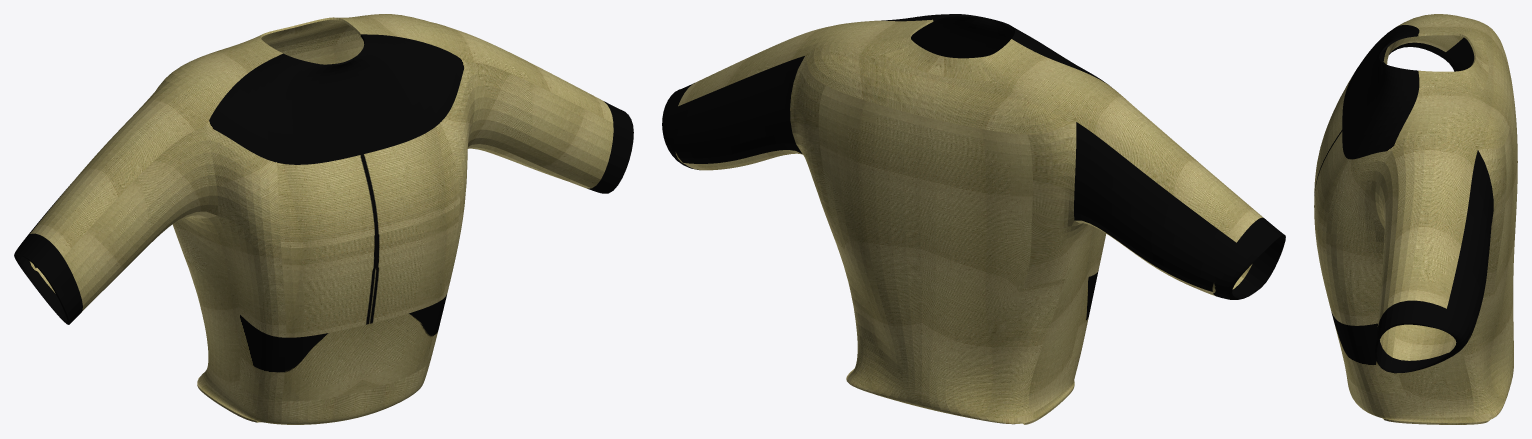
Rendered from futbolka-2.fbx.
3 views of the same model, side by side, from view 1: azimuth 30°, elevation 25°; view 2: azimuth 150°, elevation 25°; view 3: azimuth 270°, elevation 25° (orthographic). The views are drawn at different scales.
Visible parts, largest first — view 1: futbolka.001; view 2: futbolka.001; view 3: futbolka.001.
Part boxes in pixels (<box>): futbolka.001: <box>14,14,633,424</box>; futbolka.001: <box>662,14,1285,424</box>; futbolka.001: <box>1314,14,1517,424</box>.
Size of the model in its own units: 98.01 by 54.59 by 30.32.
